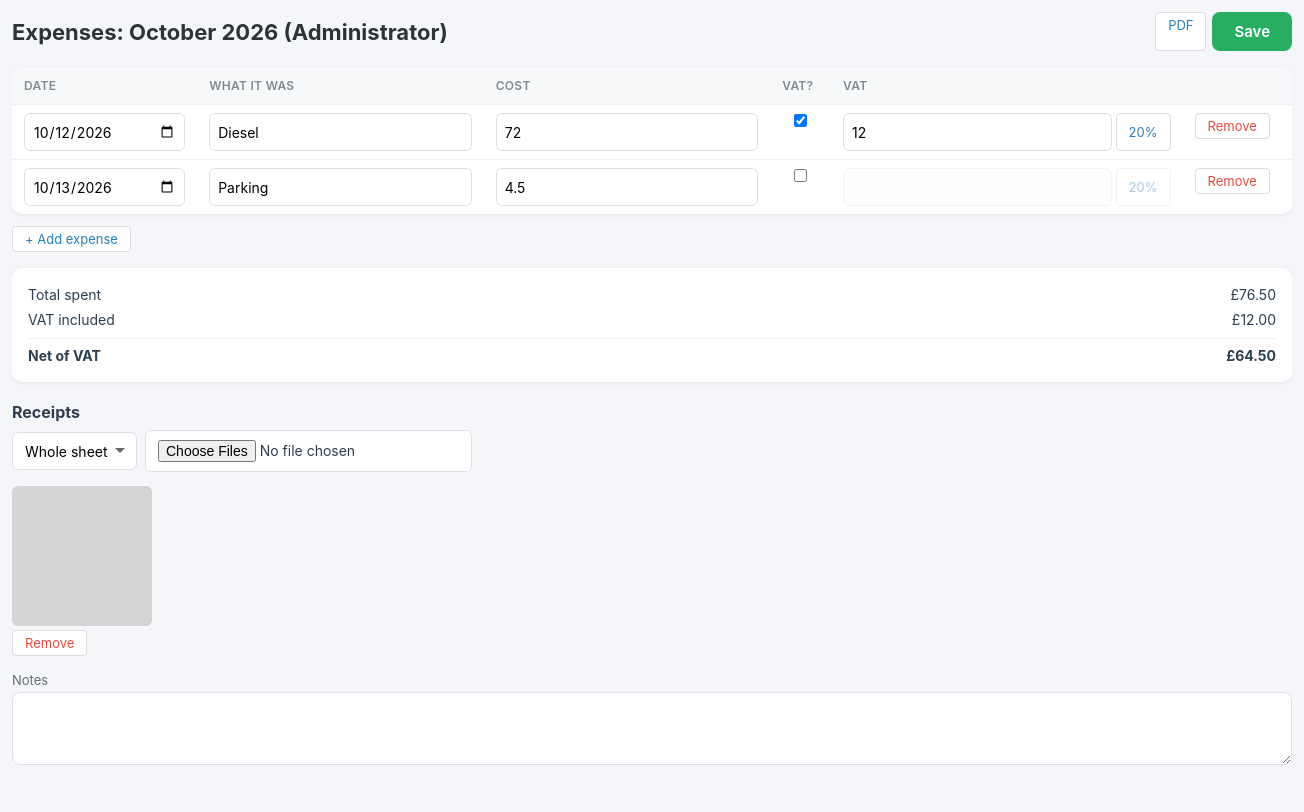
Test: ExpenseEdit › totals the gross, the VAT and the net as you type
Expected: the field showing "Diesel" is shown, [209, 113, 472, 151]
Expected: the text "£76.50" is shown, [1230, 286, 1276, 303]
Step 1. Replace the text in the number field named "Cost, row 2" with "10" → (627, 187), box [496, 168, 758, 206]
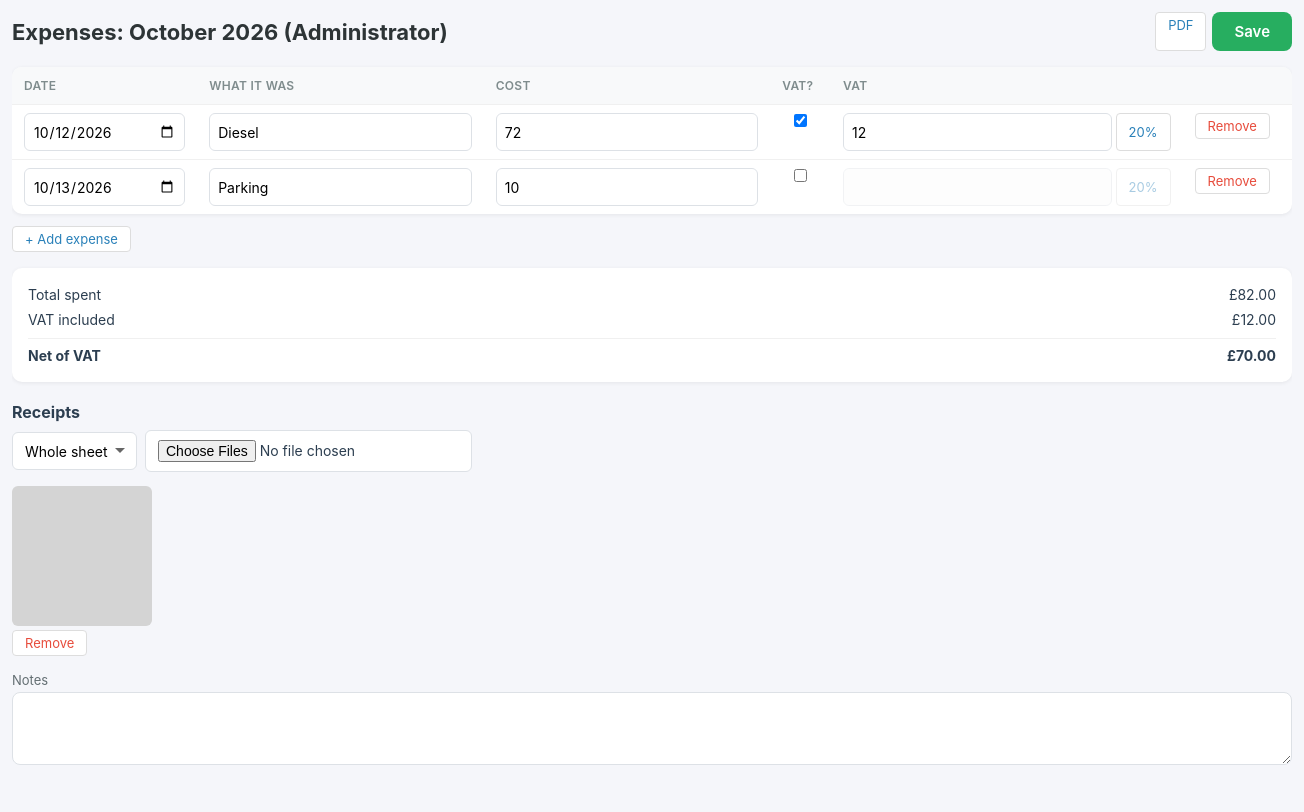
Expected: the text "£82.00" is shown, [1229, 286, 1276, 303]
